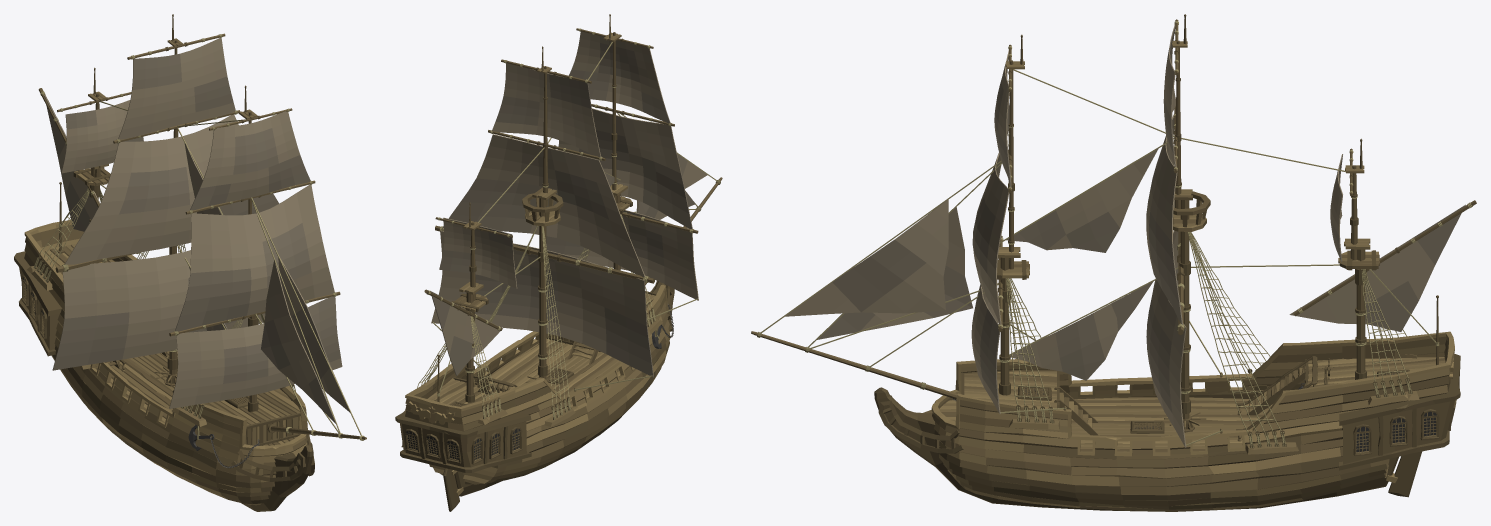
Rendered from LargeShip_2.fbx.
3 renders of one model, left to right at view 1: azimuth 30°, elevation 25°; view 2: azimuth 150°, elevation 25°; view 3: azimuth 270°, elevation 25°, orthographic. The views are drawn at different scales.
Visible parts, largest first — view 1: LargeShip_2_Sails4, LargeShip_2, LargeShip_2_Sails1, LargeShip_2_Sails1.001, LargeShip_2_Sails5, LargeShip_2_Mast2, LargeShip_2_Mast1, LargeShip_2_Mast3, LargeShip_2_Sails3; view 2: LargeShip_2_Sails4, LargeShip_2, LargeShip_2_Sails1, LargeShip_2_Sails5, LargeShip_2_Mast2, LargeShip_2_Mast3, LargeShip_2_Mast1, LargeShip_2_Sails1.001; view 3: LargeShip_2, LargeShip_2_Sails1.001, LargeShip_2_Sails3, LargeShip_2_Sails4, LargeShip_2_Sails5, LargeShip_2_Sails1, LargeShip_2_Mast2, LargeShip_2_Mast3, LargeShip_2_Mast1.
Boxes of the visible parts, box(x1,y1,x2,y2) form: LargeShip_2_Sails4: box(52, 37, 278, 370); LargeShip_2: box(14, 100, 366, 511); LargeShip_2_Sails1: box(169, 111, 342, 408); LargeShip_2_Sails1.001: box(261, 256, 349, 423); LargeShip_2_Sails5: box(44, 95, 143, 231); LargeShip_2_Mast2: box(55, 14, 240, 386); LargeShip_2_Mast1: box(169, 85, 340, 412); LargeShip_2_Mast3: box(38, 67, 131, 263); LargeShip_2_Sails3: box(184, 143, 227, 330); LargeShip_2_Sails4: box(431, 63, 653, 377); LargeShip_2: box(395, 42, 722, 511); LargeShip_2_Sails1: box(546, 31, 698, 300); LargeShip_2_Sails5: box(430, 217, 517, 375); LargeShip_2_Mast2: box(435, 46, 654, 384); LargeShip_2_Mast3: box(424, 202, 512, 402); LargeShip_2_Mast1: box(576, 14, 698, 270); LargeShip_2_Sails1.001: box(636, 154, 707, 219); LargeShip_2: box(751, 69, 1460, 511); LargeShip_2_Sails1.001: box(785, 199, 972, 339); LargeShip_2_Sails3: box(1006, 148, 1158, 380); LargeShip_2_Sails4: box(1146, 25, 1186, 447); LargeShip_2_Sails5: box(1289, 154, 1465, 331); LargeShip_2_Sails1: box(971, 50, 1011, 413); LargeShip_2_Mast2: box(1164, 14, 1210, 432); LargeShip_2_Mast3: box(1293, 138, 1476, 379); LargeShip_2_Mast1: box(997, 34, 1029, 395).
Bounding box in the file's own units: 2093 × 3684 × 4876.
